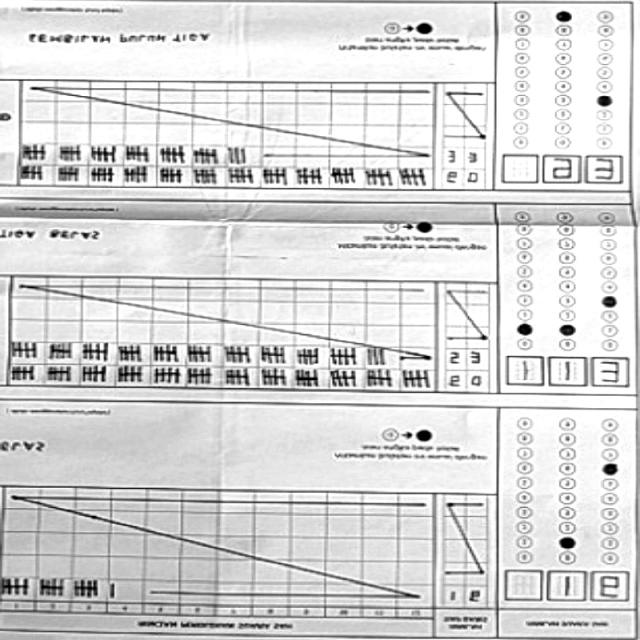Suara: (498, 355, 630, 390), (491, 155, 619, 191), (498, 570, 630, 603)
